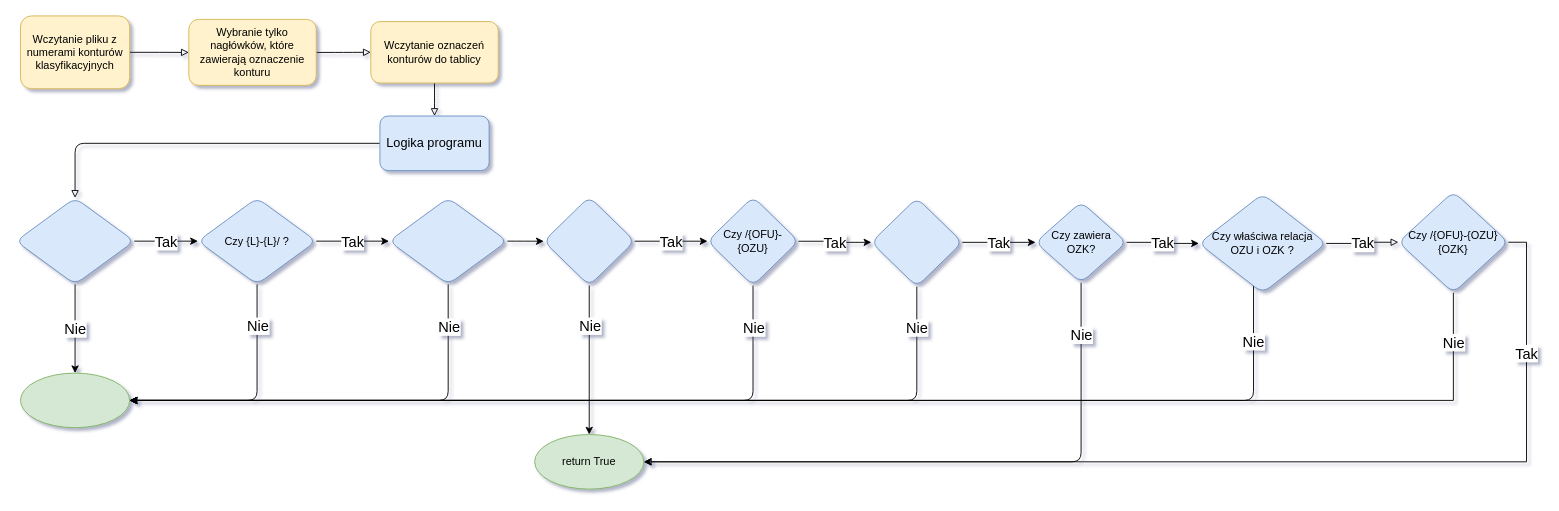
This 1559x511 diagram has some shape labels left out. Here are the shapes that lost their labels. From the top down, the box of each, then its label:
(15, 197, 134, 284): Czy "/" ?
(388, 197, 507, 284): Czy /{OFU} ?
(543, 196, 635, 286): Czy zawiera OZU?
(870, 197, 962, 287): Czy właściwa relacja OFU i OZU
(20, 372, 130, 428): return False
